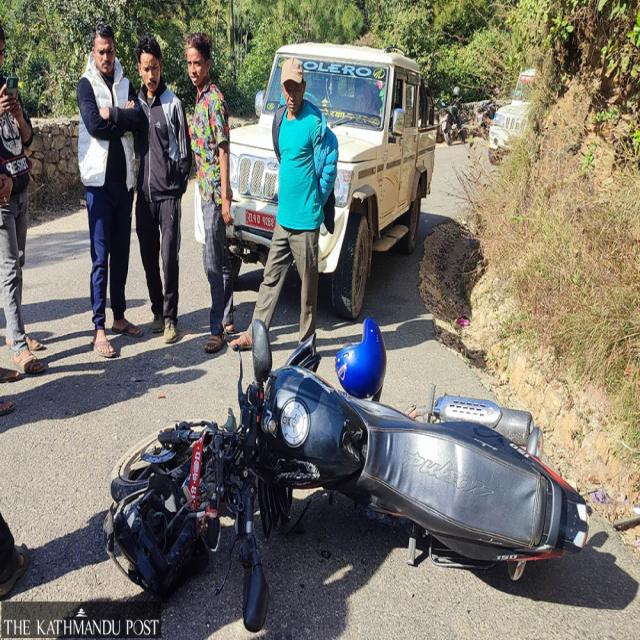accident: (105, 320, 589, 630)
car: (229, 43, 436, 318)
